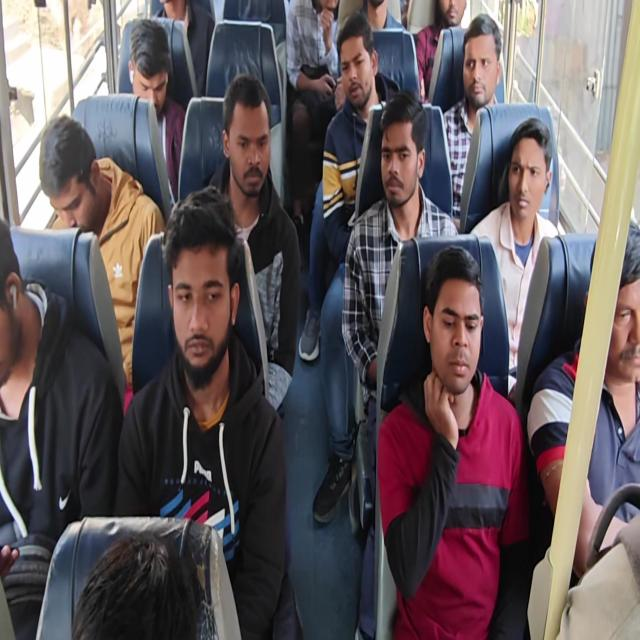person: (1, 1, 638, 638), (114, 185, 302, 638), (340, 88, 460, 638), (376, 244, 530, 638), (0, 217, 124, 638), (311, 11, 401, 524), (526, 218, 640, 581), (38, 114, 165, 414), (206, 72, 301, 414), (469, 117, 560, 394), (322, 11, 401, 264), (71, 530, 199, 638), (285, 0, 342, 227), (442, 13, 503, 222), (127, 18, 186, 203), (155, 0, 214, 96), (414, 0, 467, 103), (357, 0, 406, 31)
